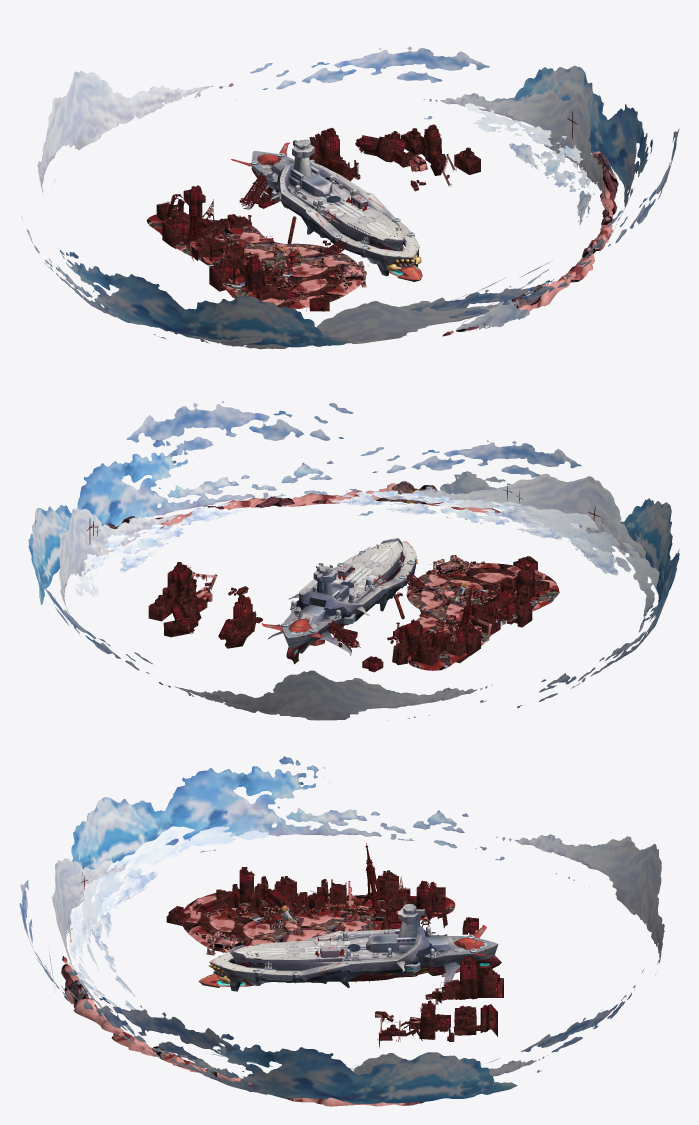
Rendered from febg_redocean_001_01.glb.
The picture shows the model from 3 angles, top to bottom: view 1: azimuth 30°, elevation 25°; view 2: azimuth 150°, elevation 25°; view 3: azimuth 270°, elevation 25°; orthographic projection. The views are drawn at different scales.
Parts seen in each view (by area): view 1: febg_redocean_001_admire_01, cloud_06 (1), cloud_03, cloud_06, febg_redocean_001_bg_01, cloud_02, cloud_01, cloud_07 (1), cloud_04, cloud_07, febg_redocean_001_cloud_14 (4), febg_redocean_001_mountain_01 (+10 smaller); view 2: cloud_06, febg_redocean_001_admire_01, cloud_03, cloud_01, febg_redocean_001_bg_01, cloud_06 (1), cloud_07 (2), cloud_02, cloud_07, cloud_05, cloud_04, cloud_05 (2) (+13 smaller); view 3: cloud_06 (1), febg_redocean_001_admire_01, cloud_06, cloud_03, febg_redocean_001_bg_01, cloud_05 (2), cloud_07 (2), cloud_01, cloud_05, febg_redocean_001_mountain_01, cloud_07 (1), cloud_05 (1) (+8 smaller).
Part boxes in pixels (box(x1,y1,x2,y2)): febg_redocean_001_admire_01: box(231, 139, 422, 281); cloud_06 (1): box(21, 216, 350, 347); cloud_03: box(37, 70, 235, 195); cloud_06: box(492, 65, 652, 279); febg_redocean_001_bg_01: box(146, 214, 365, 309); cloud_02: box(423, 89, 606, 209); cloud_01: box(154, 279, 553, 349); cloud_07 (1): box(250, 46, 489, 89); cloud_04: box(465, 103, 594, 194); cloud_07: box(410, 262, 587, 318); febg_redocean_001_cloud_14 (4): box(451, 300, 529, 331); febg_redocean_001_mountain_01: box(442, 265, 577, 336); cloud_06: box(28, 439, 356, 604); febg_redocean_001_admire_01: box(262, 538, 417, 664); cloud_03: box(159, 670, 492, 720); cloud_01: box(358, 473, 646, 559); febg_redocean_001_bg_01: box(403, 563, 559, 670); cloud_06 (1): box(517, 498, 679, 708); cloud_07 (2): box(126, 401, 353, 455); cloud_02: box(58, 508, 188, 636); cloud_07: box(360, 440, 581, 477); cloud_05: box(445, 499, 631, 572); cloud_04: box(75, 517, 180, 597); cloud_05 (2): box(590, 528, 659, 632); cloud_06 (1): box(71, 756, 486, 869); febg_redocean_001_admire_01: box(198, 901, 501, 991); cloud_06: box(105, 1008, 517, 1103); cloud_03: box(495, 834, 664, 974); febg_redocean_001_bg_01: box(182, 891, 455, 952); cloud_05 (2): box(80, 826, 269, 900); cloud_07 (2): box(67, 970, 238, 1059); cloud_01: box(51, 849, 216, 1007); cloud_05: box(82, 868, 142, 969); febg_redocean_001_mountain_01: box(61, 956, 129, 1037); cloud_07 (1): box(521, 969, 643, 1052); cloud_05 (1): box(68, 885, 148, 988).
Size of the model in its own units: 352 by 62.65 by 335.
14 materials, 14 textured.
